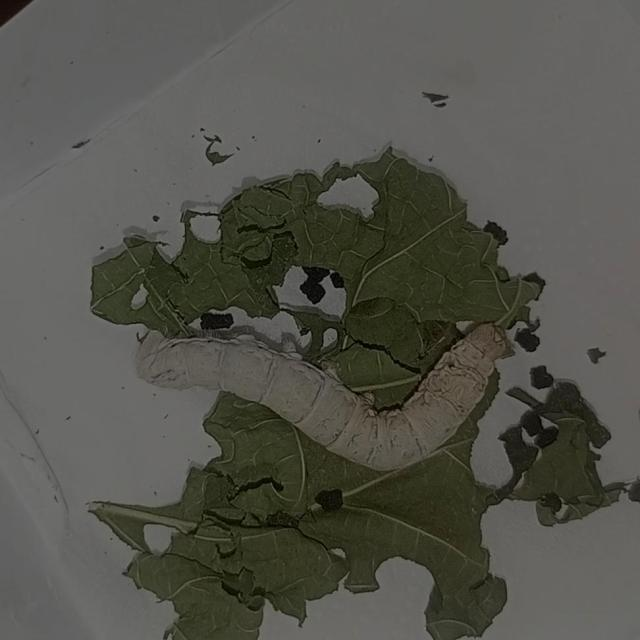Healthy: (112, 296, 538, 492)
